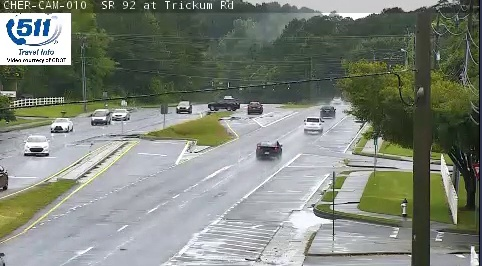car: (256, 141, 282, 159), (303, 116, 323, 132), (320, 106, 336, 119)
